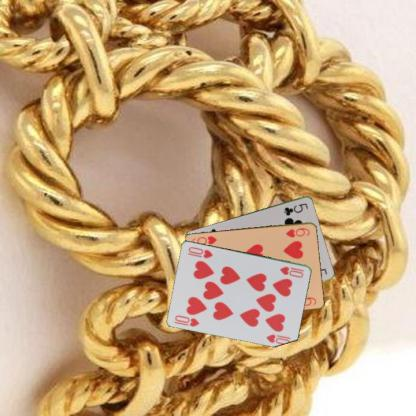10h: (172, 312, 201, 328), (277, 264, 306, 278)
5c: (281, 201, 309, 217)
6h: (284, 225, 311, 239)
